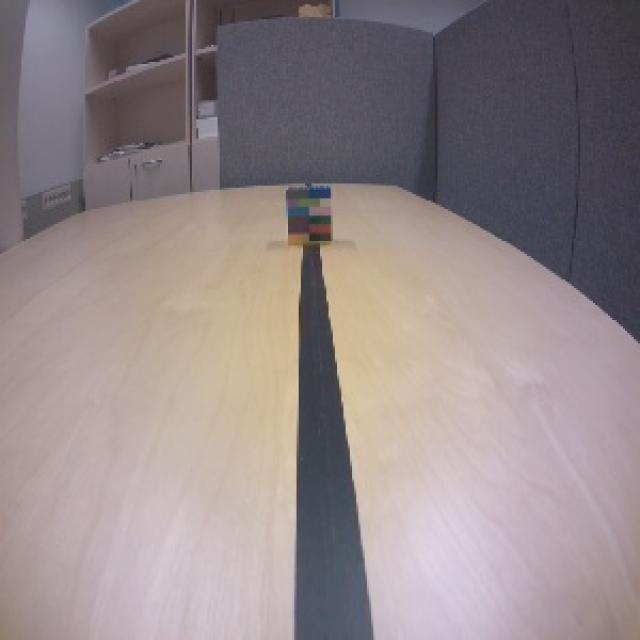obstacle: (285, 183, 334, 246)
